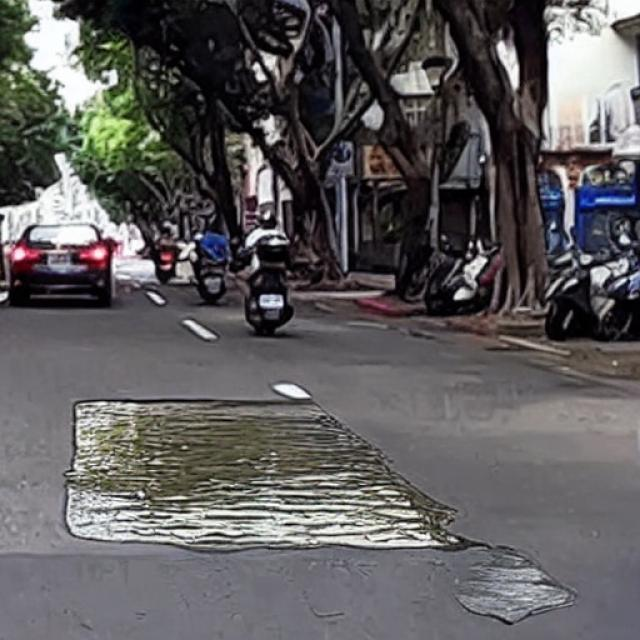puddle: (68, 398, 475, 555), (458, 542, 574, 625)
